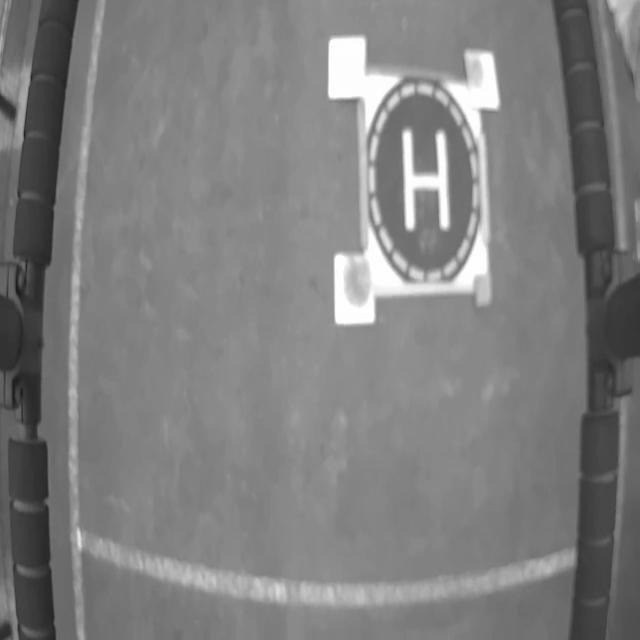Helipad: (402, 128, 450, 234)
